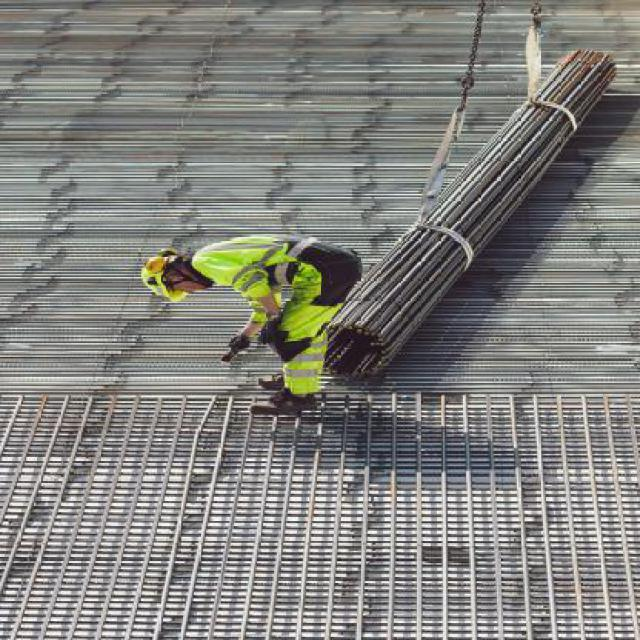person: (112, 217, 374, 428)
vest: (191, 227, 329, 296)
